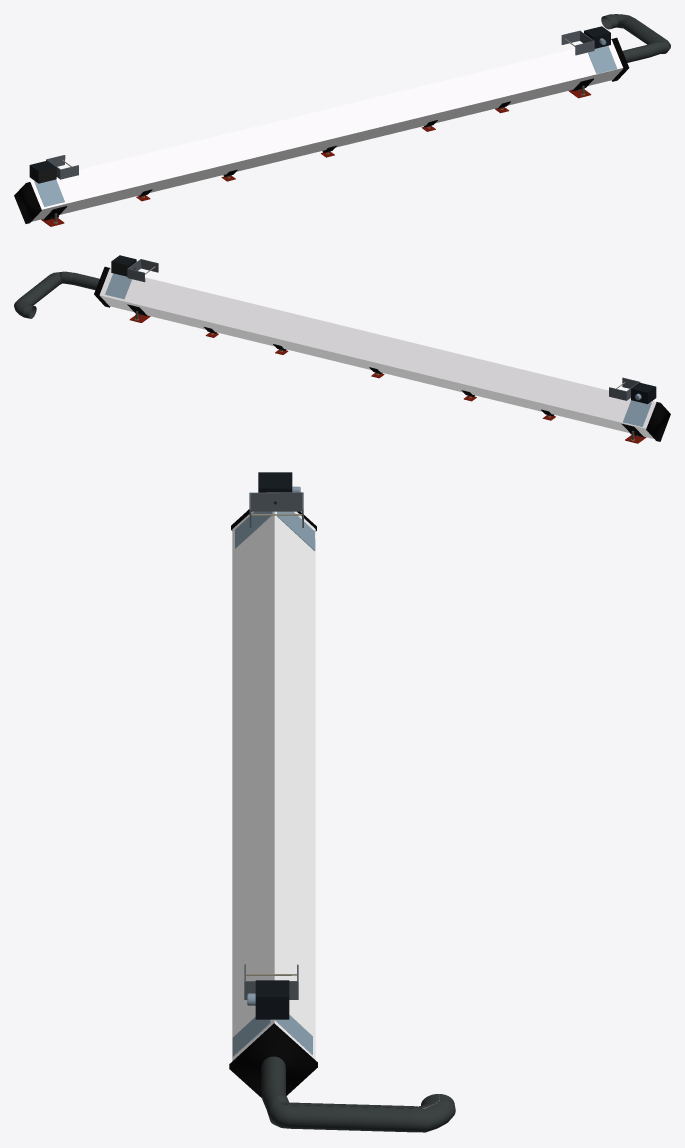
The model's file is soportemru.glb.
3 renders of one model, top to bottom at view 1: azimuth 30°, elevation 25°; view 2: azimuth 150°, elevation 25°; view 3: azimuth 270°, elevation 25°, orthographic. The views are drawn at different scales.
Parts seen in each view (by area): view 1: Cube, Circle, Plane, Plane.006, Plane.014, Cube.002, Cube.001; view 2: Cube, Circle, Plane, Plane.013, Plane.007, Cube.002, Cube.001; view 3: Cube, Circle, Plane.001, Cube.001, Plane.009.
Boxes of the visible parts, box(x1,y1,x2,y2) form: Cube: box(30, 40, 623, 221); Circle: box(601, 14, 670, 62); Plane: box(14, 182, 41, 223); Plane.006: box(588, 46, 617, 73); Plane.014: box(34, 179, 64, 206); Cube.002: box(29, 160, 56, 183); Cube.001: box(584, 26, 610, 48); Cube: box(99, 269, 656, 438); Circle: box(14, 271, 99, 318); Plane: box(646, 402, 670, 441); Plane.013: box(623, 400, 651, 426); Plane.007: box(105, 273, 131, 299); Cube.002: box(631, 382, 656, 404); Cube.001: box(111, 255, 136, 276); Cube: box(232, 511, 315, 1060); Circle: box(261, 1056, 455, 1132); Plane.001: box(229, 1023, 317, 1097); Cube.001: box(255, 980, 289, 1019); Plane.009: box(250, 492, 303, 511).
Bounding box in the file's own units: 5.95 × 0.5021 × 0.9582.
